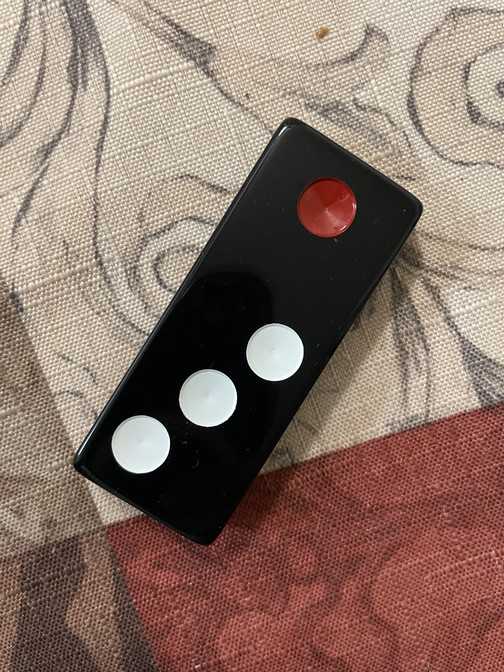goose: (72, 120, 423, 548)
